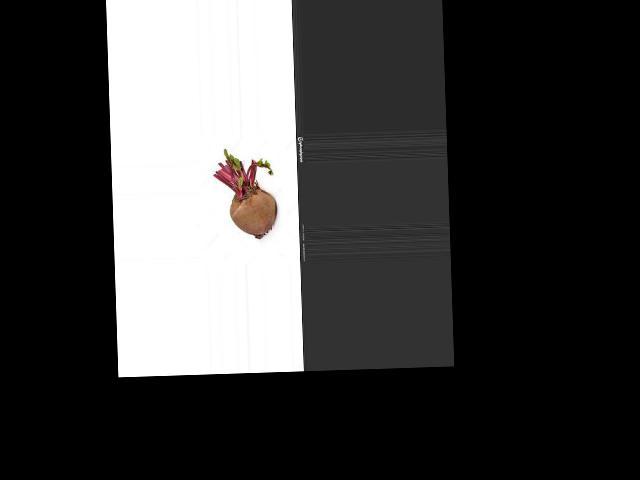beet: (212, 147, 278, 240)
